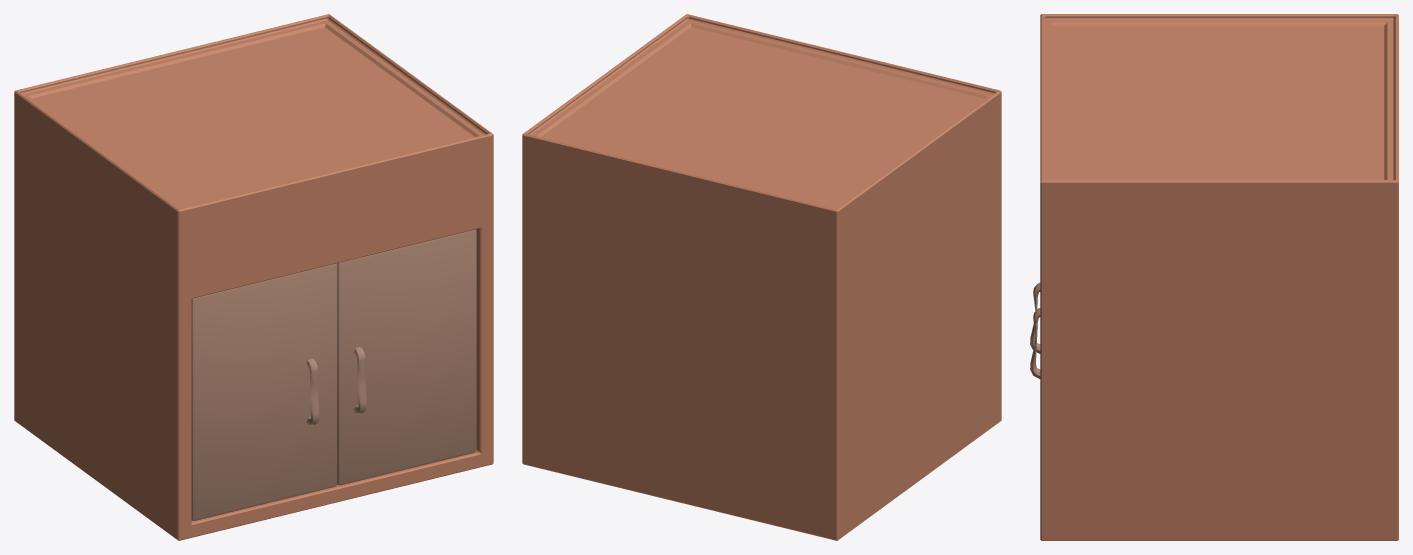
The model's file is Vertical Cabinet Frame.fbx.
3 views of the same model, side by side, from view 1: azimuth 30°, elevation 25°; view 2: azimuth 150°, elevation 25°; view 3: azimuth 270°, elevation 25° (orthographic). The views are drawn at different scales.
Parts seen in each view (by area): view 1: Vertical Cabinet Frame, Left Cabinet Frame, Right Cabinet Frame; view 2: Vertical Cabinet Frame; view 3: Vertical Cabinet Frame.
Boxes of the visible parts, left/top/right/bottom form: Vertical Cabinet Frame: left=14, top=14, right=493, bottom=540; Left Cabinet Frame: left=191, top=263, right=337, bottom=520; Right Cabinet Frame: left=337, top=229, right=476, bottom=485; Vertical Cabinet Frame: left=522, top=14, right=1001, bottom=540; Vertical Cabinet Frame: left=1040, top=14, right=1398, bottom=540.
Bounding box in the file's own units: 89.14 × 96.05 × 96.05.
